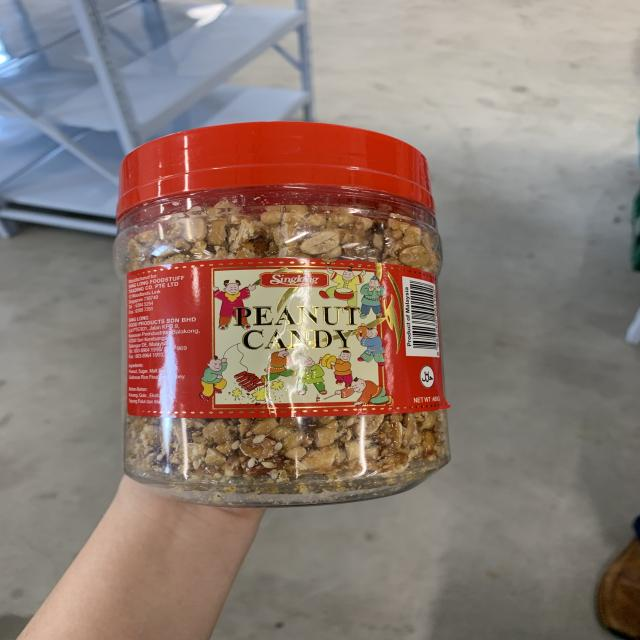object_name: (117, 142, 447, 490)
